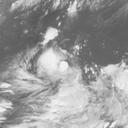cyclone: (26, 44, 74, 90)
